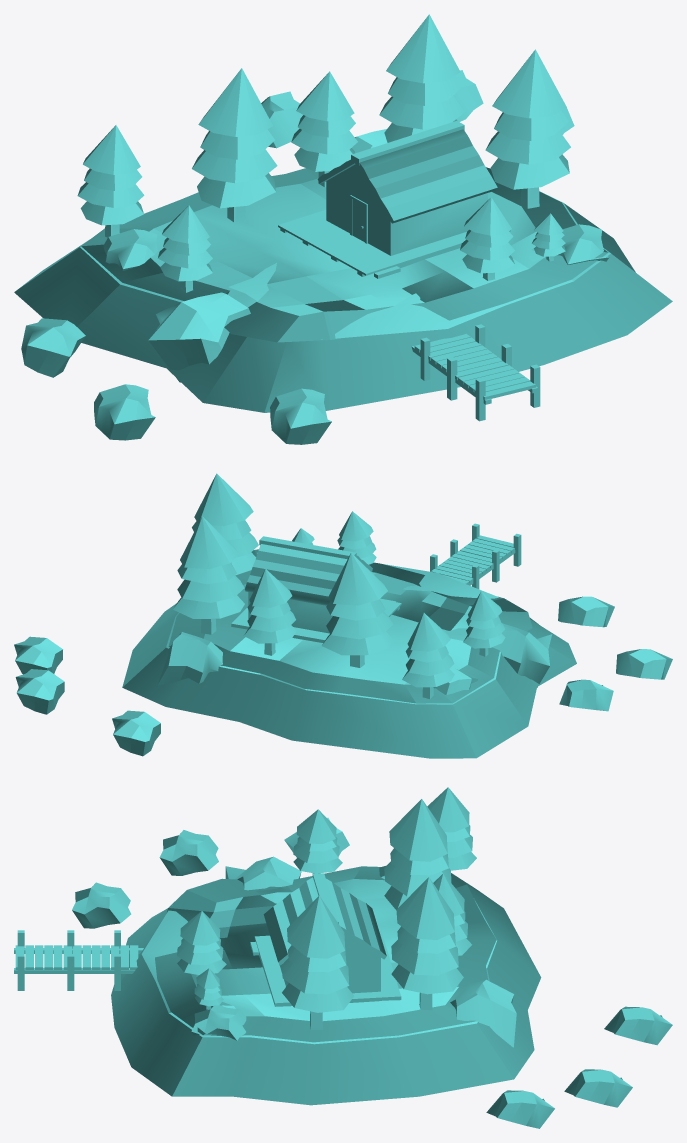
File: Low-Poly_Floating_Island.glb
3 views of the same model, one above another, from view 1: azimuth 30°, elevation 25°; view 2: azimuth 150°, elevation 25°; view 3: azimuth 270°, elevation 25° (orthographic). The views are drawn at different scales.
Visible parts, largest first — view 1: unnamed (×8); view 2: unnamed (×7); view 3: unnamed (×7).
Part boxes in pixels (x1,y1,x2,y2): unnamed (×8): (14,14,672,444); unnamed (×7): (14,473,672,758); unnamed (×7): (14,787,672,1128).
Size of what is drawn, in the model's own units: 17.56 by 5.51 by 17.41.
